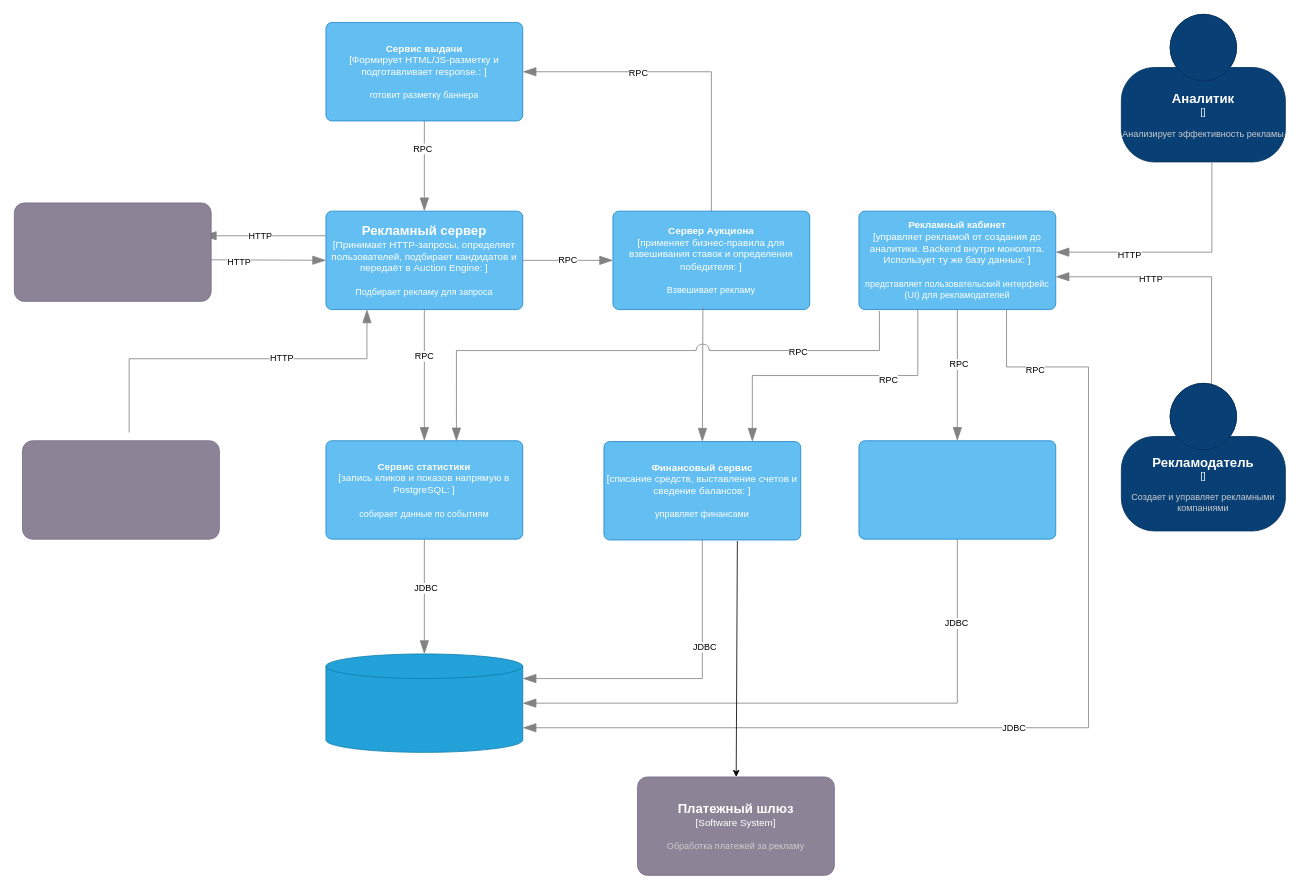
Some shapes in this 1300 by 890 pixel diagram are drawn without their labels. Here are the shapes that lost their labels. From the top down, the centre of each, then its label:
At [112,251]: "браузер пользователя с рекламой [Показ рекламы пользователям сайта] бразуер".
At [120,489]: "DSP - партнер [] Внешние рекламные сети присылающие RTB запросы".
At [957,489]: "Сервис аналитики [SQL-запросы в продакшн-базу: ] собирает аналитику".
At [424,702]: "БД [: Postgres DB] Хранение данных по кликам и показам релкамы".
